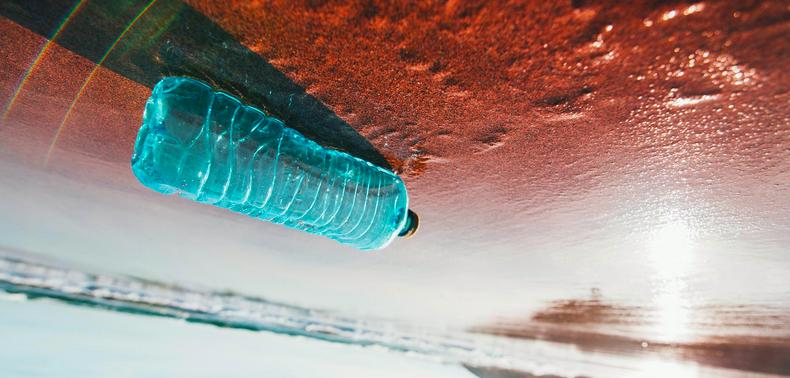Plastic: (126, 55, 423, 256)
